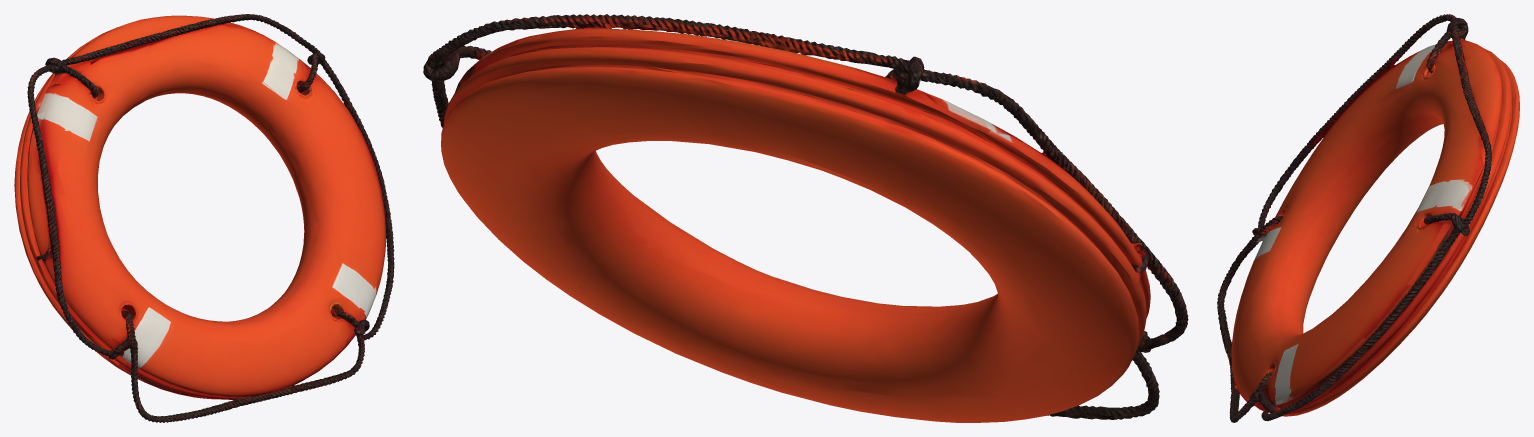
The model's file is classic_lifebuoy_ring.glb.
3 views of the same model, side by side, from view 1: azimuth 30°, elevation 25°; view 2: azimuth 150°, elevation 25°; view 3: azimuth 270°, elevation 25° (orthographic). The views are drawn at different scales.
Parts seen in each view (by area): view 1: Object_2; view 2: Object_2; view 3: Object_2.
Boxes of the visible parts, left/top/right/bottom form: Object_2: left=14, top=14, right=394, bottom=422; Object_2: left=423, top=14, right=1188, bottom=422; Object_2: left=1217, top=14, right=1519, bottom=422.
Size of the model in its own units: 1.01 by 0.7858 by 0.6904.
Materials: 1 (1 with a texture image).
